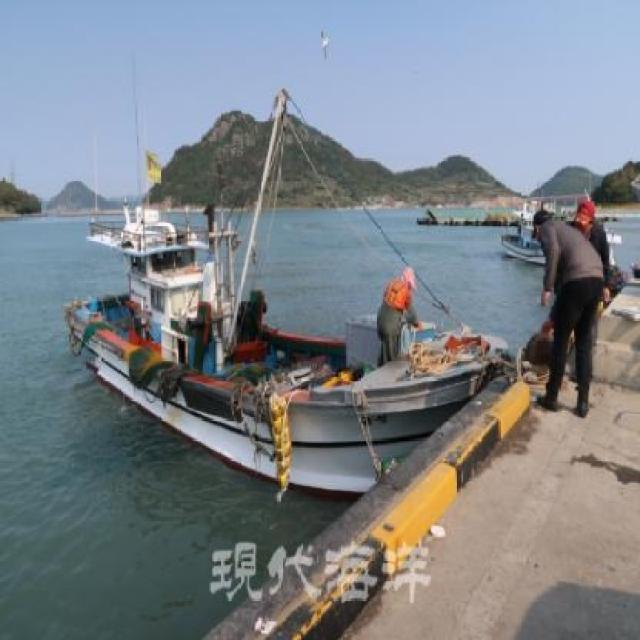fish-b: (61, 77, 516, 511)
